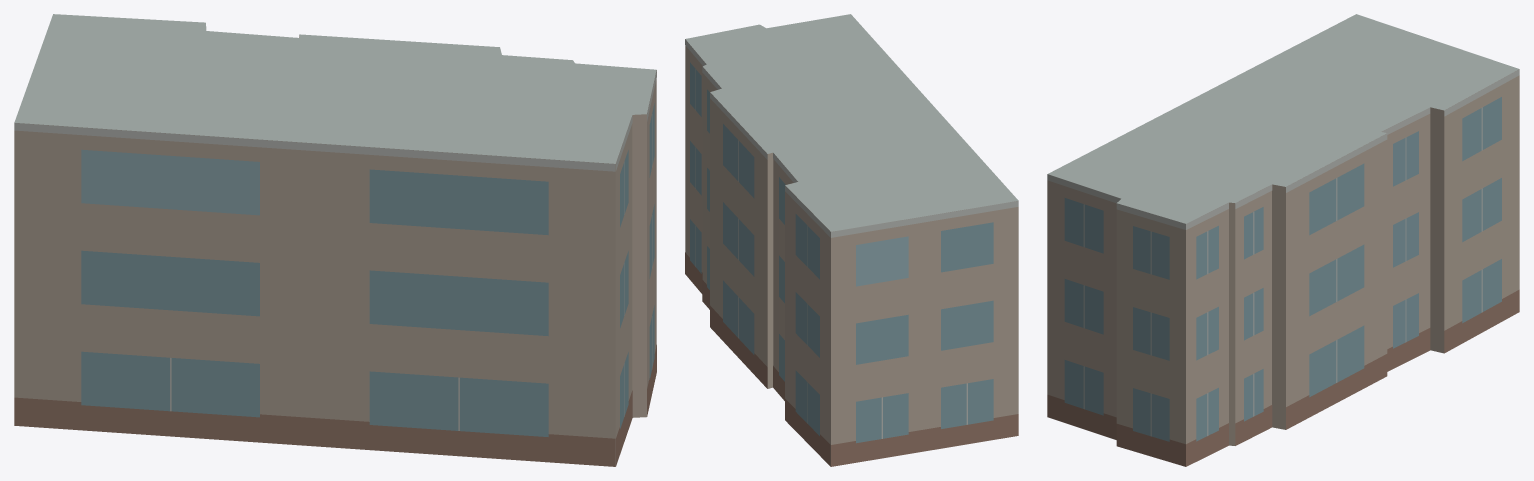
File: survey-upis-32934469.glb
3 views of the same model, side by side, from view 1: azimuth 30°, elevation 25°; view 2: azimuth 150°, elevation 25°; view 3: azimuth 270°, elevation 25° (orthographic). The views are drawn at different scales.
Parts seen in each view (by area): view 1: survey-upis-32934469.tmp; view 2: survey-upis-32934469.tmp; view 3: survey-upis-32934469.tmp.
Boxes of the visible parts, <box> form: survey-upis-32934469.tmp: <box>14,14,656,466</box>; survey-upis-32934469.tmp: <box>685,14,1018,466</box>; survey-upis-32934469.tmp: <box>1047,14,1519,466</box>.
Size of the model in its own units: 17.6 by 9.5 by 16.73.
